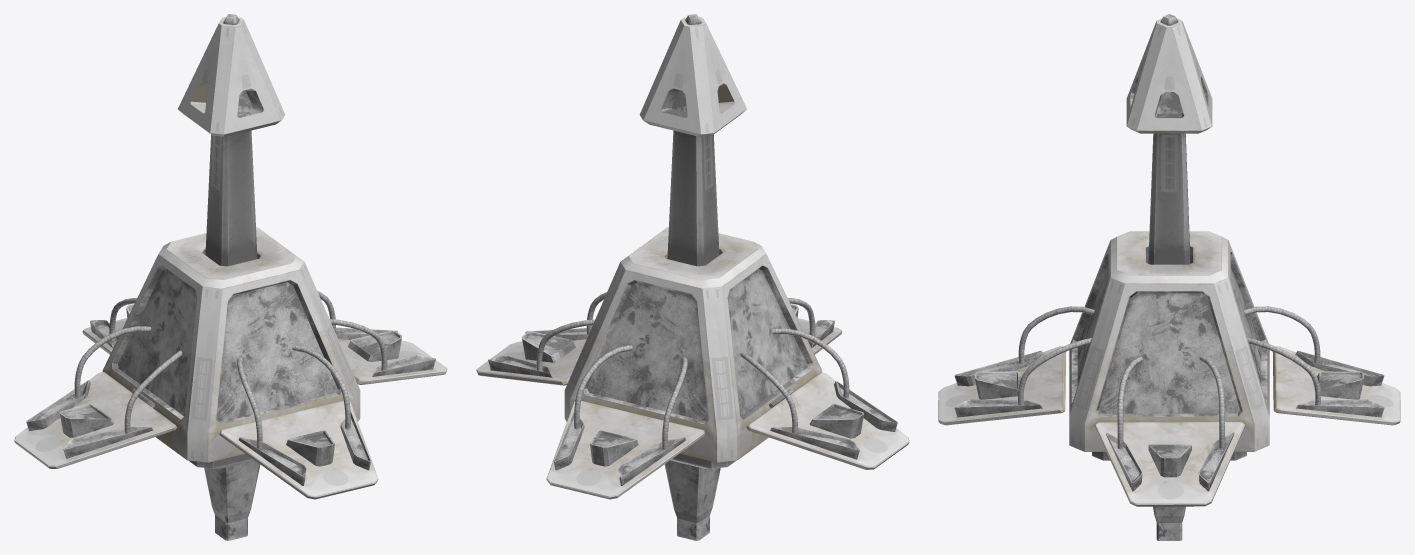
The model's file is lighthouse.fbx.
3 renders of one model, left to right at view 1: azimuth 30°, elevation 25°; view 2: azimuth 150°, elevation 25°; view 3: azimuth 270°, elevation 25°, orthographic.
Visible parts, largest first — view 1: base; view 2: base; view 3: base.
Part boxes in pixels (x1=…): base: x1=14, y1=14, x2=447, y2=540; base: x1=476, y1=14, x2=909, y2=540; base: x1=938, y1=14, x2=1400, y2=540.
Size of the model in its own units: 207 by 257 by 207.
Materials: 1 (1 with a texture image).
